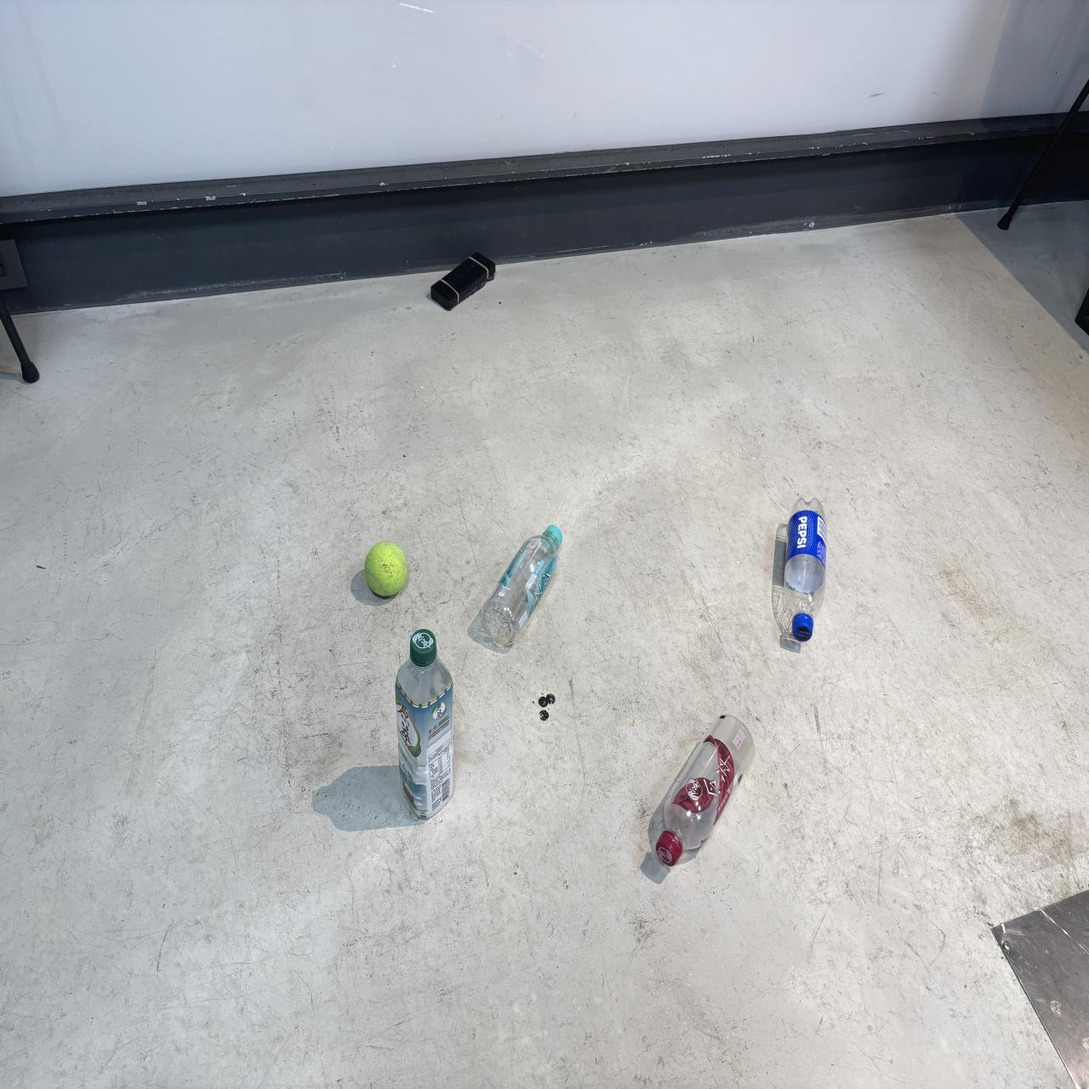plastic-bottle: (396, 630, 453, 818)
tennisball: (365, 542, 407, 596)
